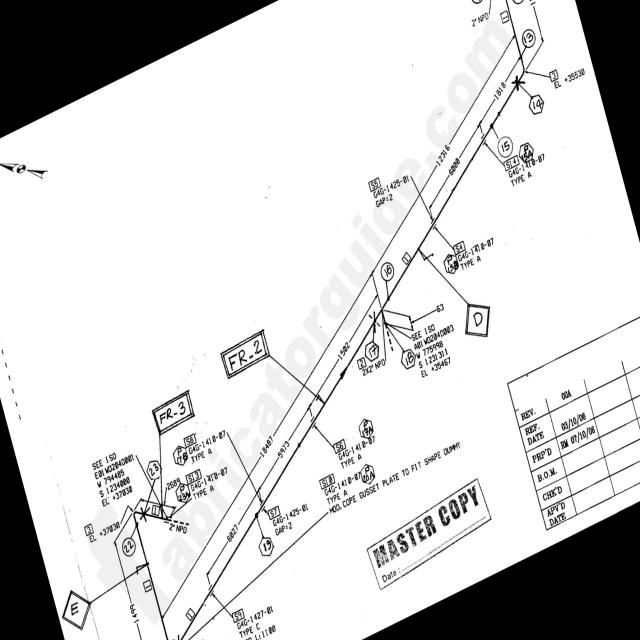Item number: (502, 153, 523, 173), (316, 470, 335, 490), (366, 174, 383, 196), (266, 503, 284, 522), (330, 435, 347, 455), (452, 236, 468, 257), (232, 604, 246, 626), (82, 518, 95, 540), (497, 8, 511, 28), (184, 603, 196, 624), (141, 574, 154, 592), (546, 66, 559, 82), (356, 355, 368, 372), (401, 248, 413, 265), (151, 505, 161, 516)
Measrement: (160, 264, 375, 624), (370, 26, 518, 283), (254, 399, 312, 498), (426, 119, 482, 217), (205, 492, 258, 579), (477, 48, 524, 134), (318, 315, 366, 388), (119, 565, 145, 639), (405, 296, 450, 334), (360, 354, 388, 379)
Pipeline: (173, 0, 528, 640), (130, 507, 173, 640)
Symbol: (128, 497, 149, 526), (511, 67, 528, 88)
Weld number: (257, 531, 276, 558), (521, 25, 538, 53), (527, 93, 545, 118), (121, 533, 138, 559), (378, 260, 396, 283), (498, 135, 514, 159)
other: (361, 471, 493, 591), (318, 431, 467, 515), (79, 439, 140, 509), (410, 311, 466, 382), (172, 423, 230, 467), (336, 430, 383, 472), (270, 496, 317, 538), (458, 230, 502, 274), (235, 599, 277, 639), (372, 171, 414, 208), (194, 461, 228, 500), (87, 517, 120, 546)
